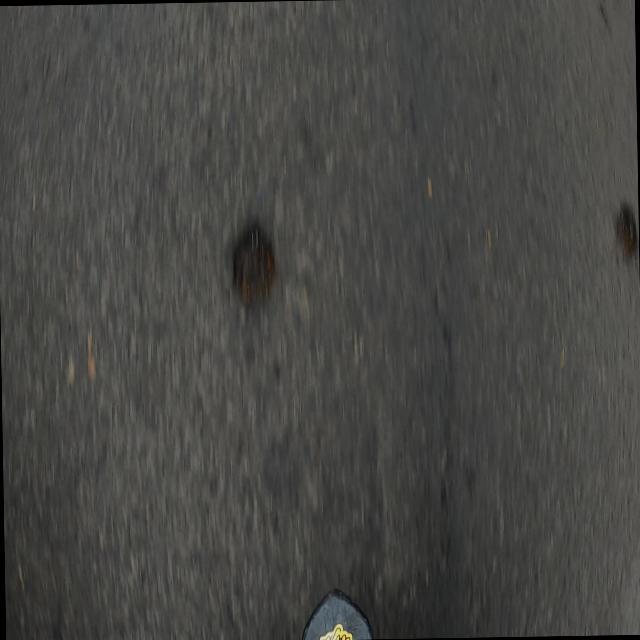Lubang: (233, 226, 274, 301), (616, 204, 637, 257)
